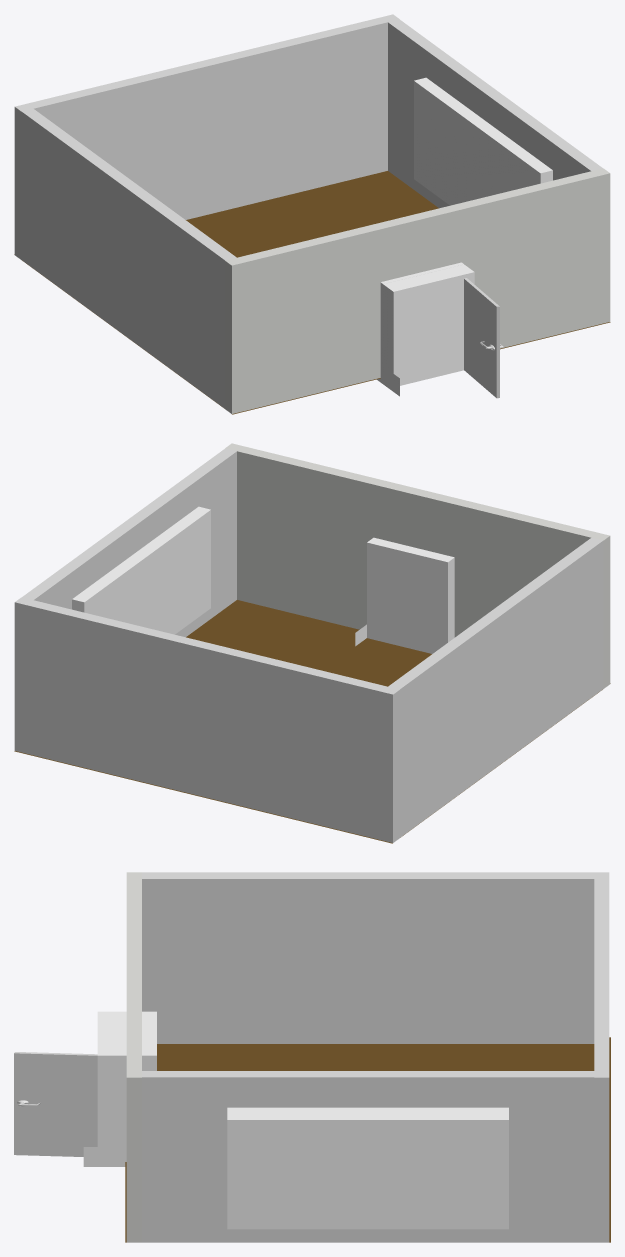
File: buildingex.glb
The picture shows the model from 3 angles, top to bottom: view 1: azimuth 30°, elevation 25°; view 2: azimuth 150°, elevation 25°; view 3: azimuth 270°, elevation 25°; orthographic projection. The views are drawn at different scales.
Parts seen in each view (by area): view 1: wall1, wall2, wall3, wall4, Plane, CTRL_Hole.001, CTRL_Hole, Door; view 2: wall2, wall1, wall3, wall4, Plane, CTRL_Hole.001, CTRL_Hole; view 3: wall3, wall4, CTRL_Hole.001, Plane, Door, wall1, wall2, CTRL_Hole, DoorFrame, CTRL_Baseboard.
Part boxes in pixels (x1,y1,x2,y2): wall1: (225,168,610,413); wall2: (14,14,399,259); wall3: (21,109,236,408); wall4: (388,19,602,208); Plane: (14,171,610,414); CTRL_Hole.001: (414,77,552,205); CTRL_Hole: (380,264,474,385); Door: (464,278,499,398); wall2: (14,597,399,842); wall1: (225,443,610,688); wall3: (388,538,603,837); wall4: (22,448,236,637); Plane: (14,600,610,843); CTRL_Hole.001: (72,506,210,634); CTRL_Hole: (367,537,454,653); wall3: (142,872,594,1043); wall4: (141,1071,594,1242); CTRL_Hole.001: (227,1107,508,1229); Plane: (125,1037,610,1242); Door: (14,1052,97,1156); wall1: (126,872,141,1242); wall2: (594,872,609,1242); CTRL_Hole: (97,1011,156,1146); DoorFrame: (120,1011,126,1161); CTRL_Baseboard: (83,1147,126,1166).
Bounding box in the file's own units: 16.94 × 6.18 × 19.66.
